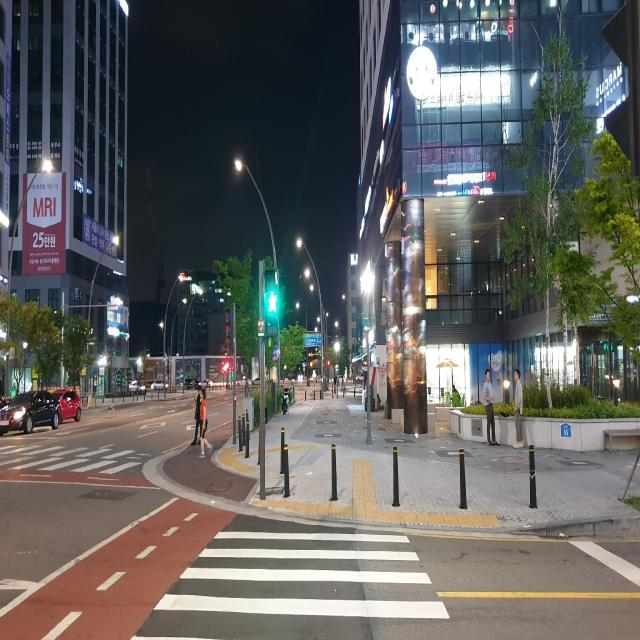횡단보도: (127, 529, 450, 639), (0, 445, 162, 476)
